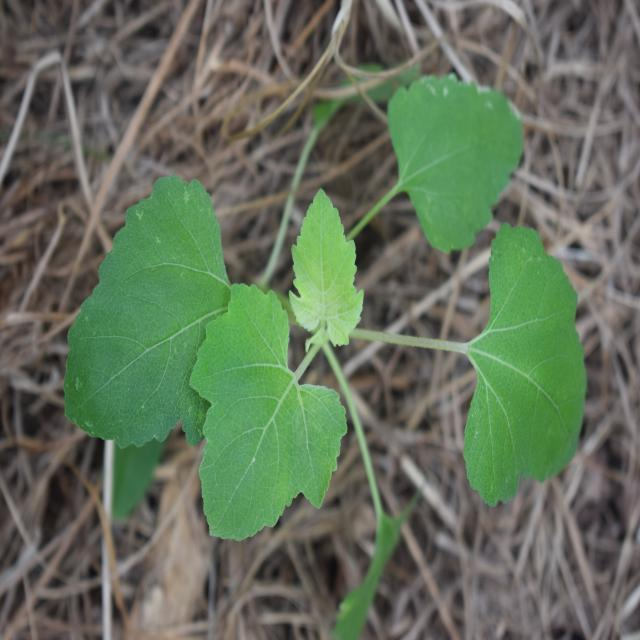cocklebur: (45, 88, 581, 524)
